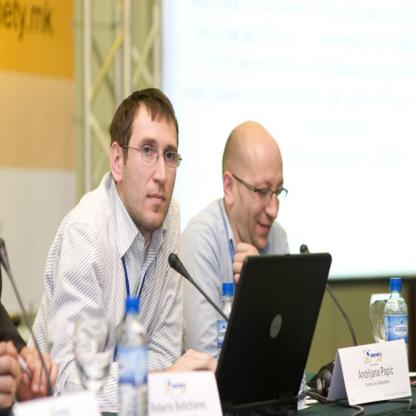board: (198, 238, 320, 407), (119, 297, 149, 416), (387, 277, 410, 366), (218, 281, 235, 361)
